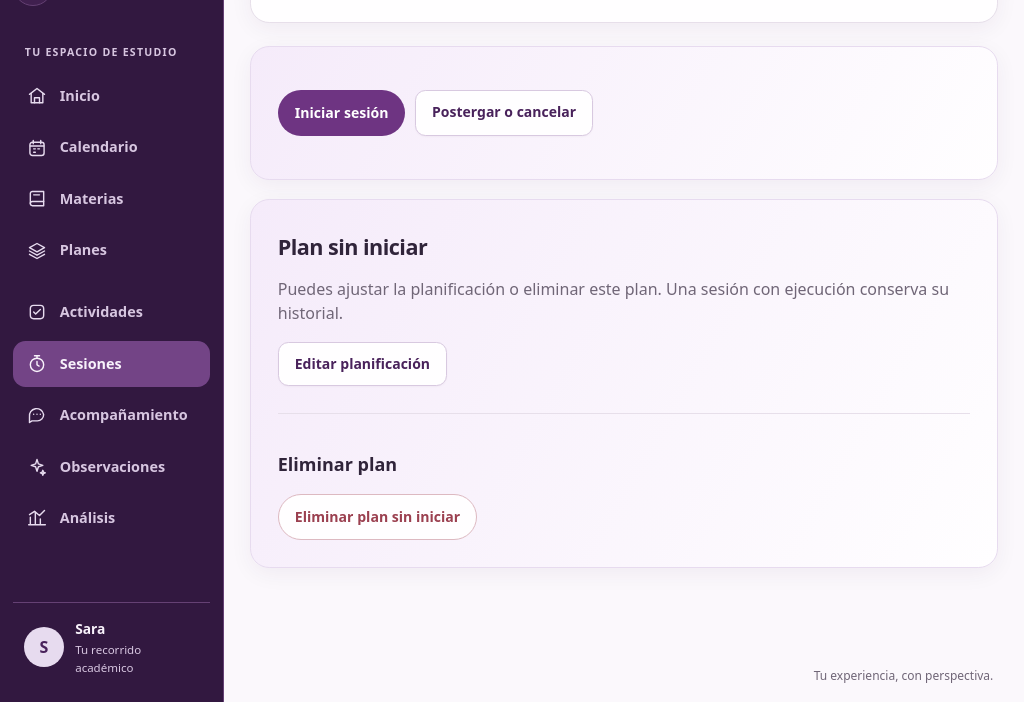
Scenario: study session planning routes › edits a plan before execution and sends only supported planning fields
(page scrolled)
Step 1. Click the button "Editar planificación" → point(362, 364), box [278, 342, 447, 386]
(page scrolled)
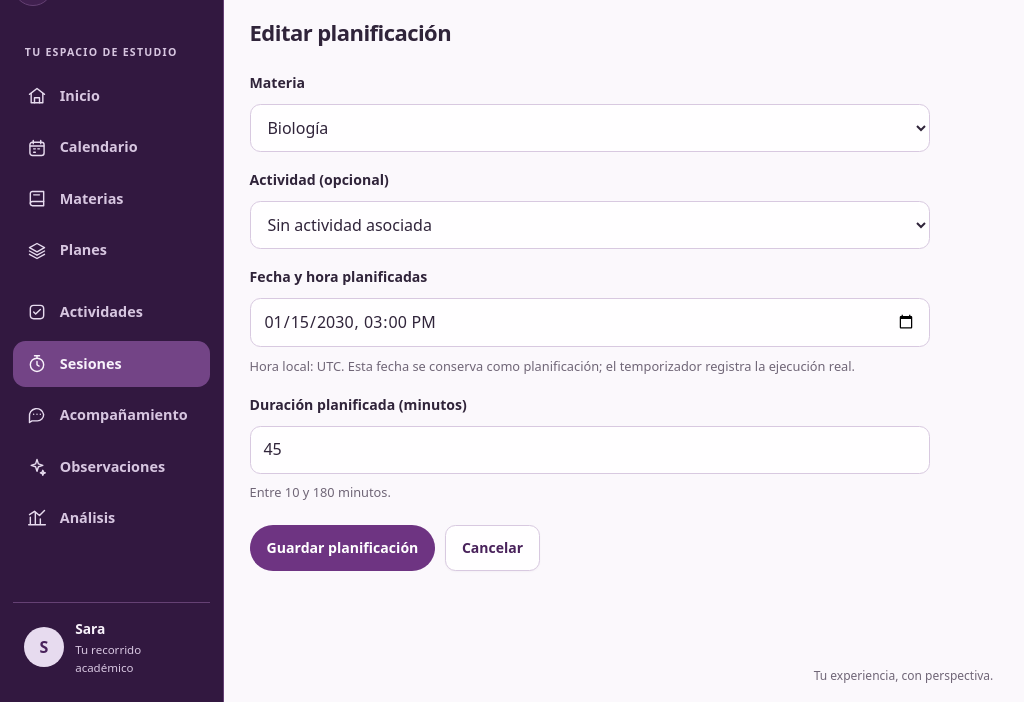
Step 2. Replace the text in the field labelled "Fecha y hora planificadas" with "2030-01-16T11:30" → point(590, 322), box [250, 298, 930, 347]
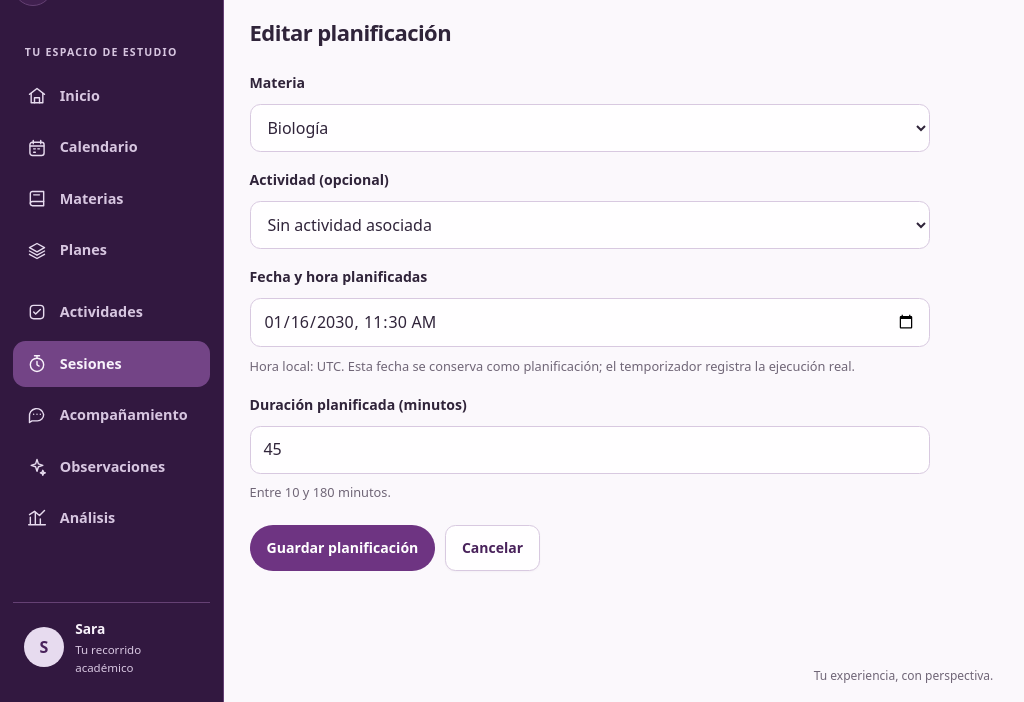
Step 3. Replace the text in the number field labelled "Duración planificada (minutos)" with "60" → point(590, 450), box [250, 426, 930, 474]
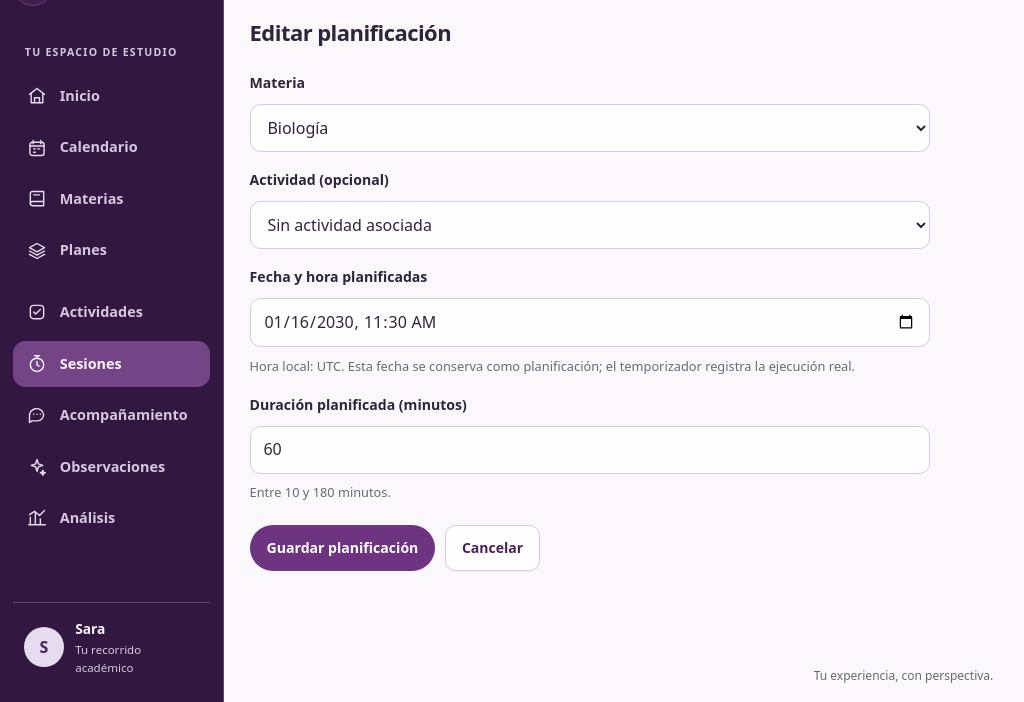
Step 4. Select "Historia" in the dropdown labelled "Materia" → point(590, 128), box [250, 104, 930, 152]
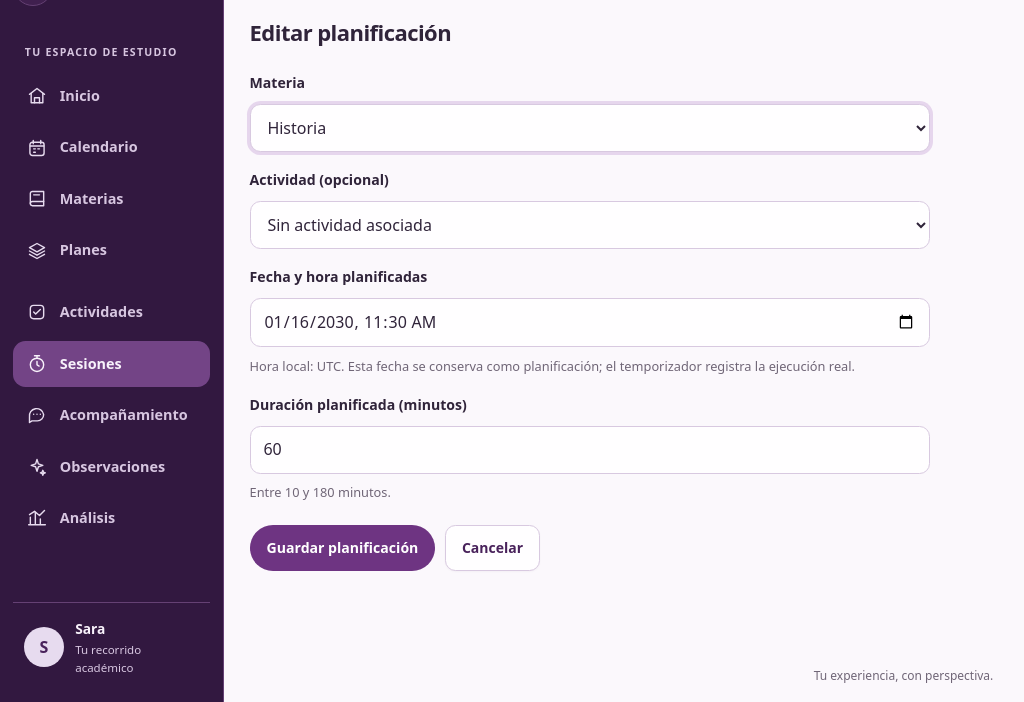
Check: the dropdown labelled "Actividad (opcional)" is enabled, box [250, 200, 930, 248]
Step 5. Click the button "Guardar planificación" → point(342, 548), box [250, 525, 435, 571]
(page scrolled)
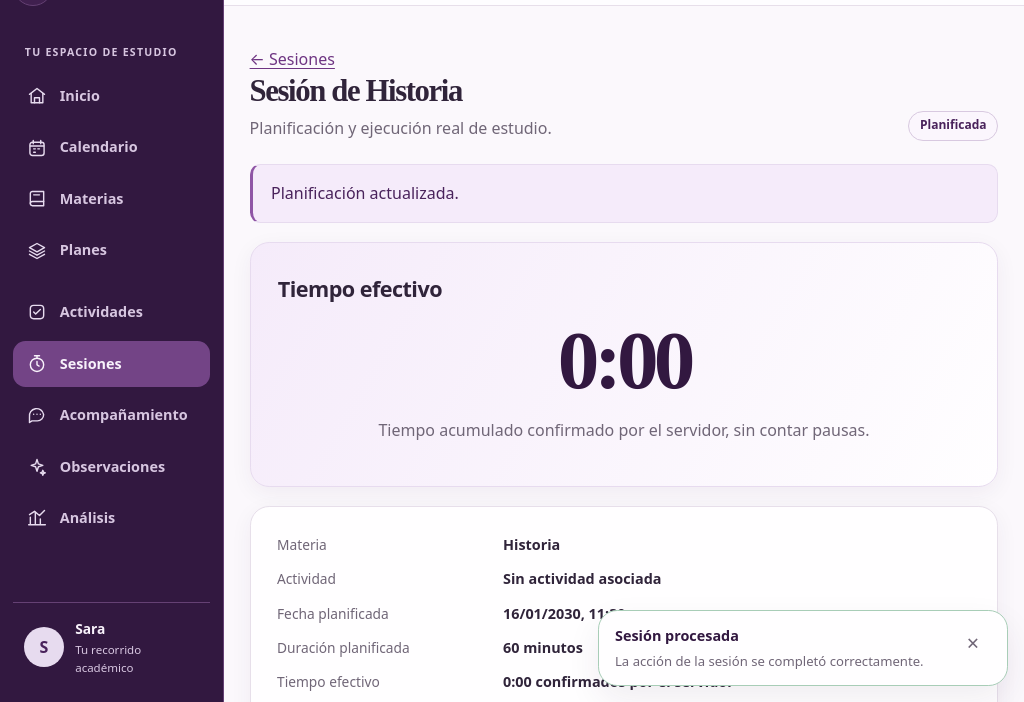
Check: the text "Planificación actualizada." is shown, box [250, 164, 998, 222]
